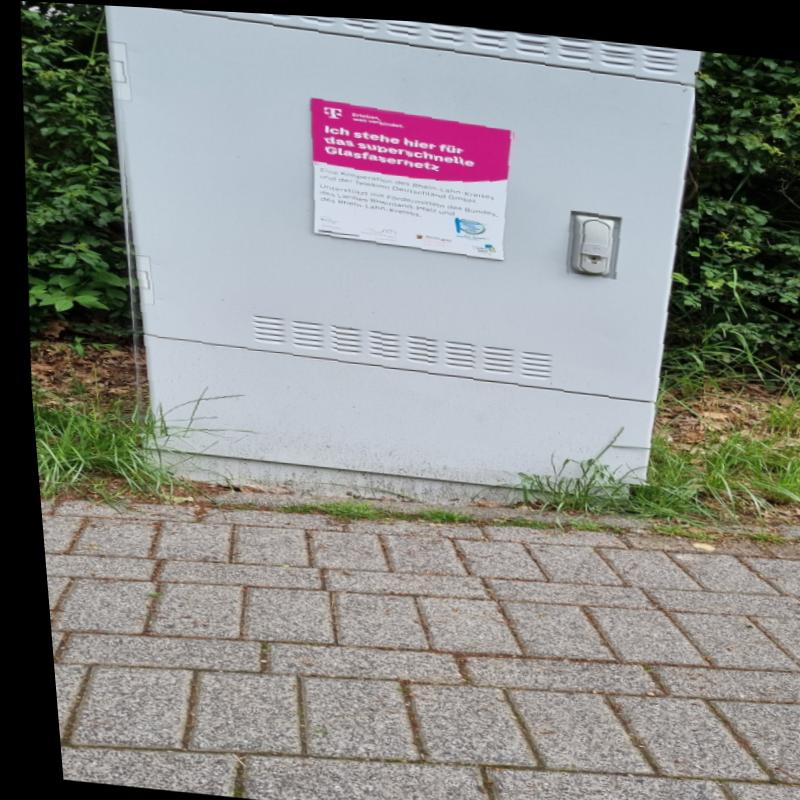NT-Gehause: (115, 5, 694, 478)
Steaker: (308, 94, 511, 246)
